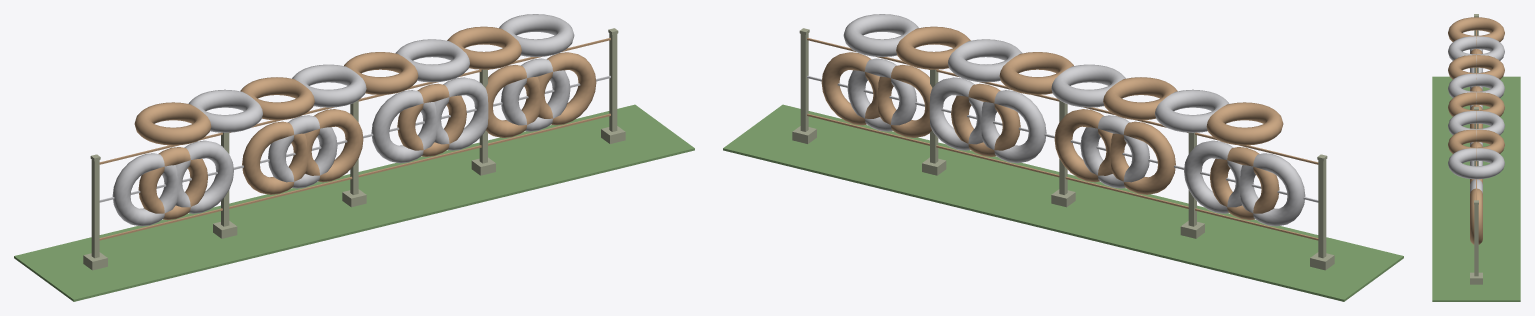
File: barbed_wire_fence.glb
3 views of the same model, side by side, from view 1: azimuth 30°, elevation 25°; view 2: azimuth 150°, elevation 25°; view 3: azimuth 270°, elevation 25° (orthographic). The views are drawn at different scales.
Visible parts, largest first — view 1: ground, barb_1a, barb_3a, barb_2a, concertina_1, barb_1b, barb_3b, barb_4b, barb_2b, barb_1c, barb_4c, barb_2c (+14 smaller); view 2: ground, barb_1a, barb_3a, barb_2a, concertina_1, barb_1b, barb_3b, barb_4b, barb_2b, barb_1c, barb_4c, barb_2c (+14 smaller); view 3: ground, concertina_8, concertina_1, concertina_2, concertina_7, concertina_4, concertina_5, concertina_3, concertina_6, barb_4c, post_5, foot_5 (+3 smaller).
Part boxes in pixels (x1,y1,x2,y2): ground: (14, 104, 694, 301); barb_1a: (112, 153, 177, 226); barb_3a: (371, 90, 436, 163); barb_2a: (242, 121, 307, 194); concertina_1: (134, 102, 211, 145); barb_1b: (138, 147, 207, 220); barb_3b: (397, 83, 466, 156); barb_4b: (501, 58, 570, 131); barb_2b: (268, 115, 337, 188); barb_1c: (175, 140, 233, 213); barb_4c: (538, 52, 596, 125); barb_2c: (305, 109, 363, 182); ground: (723, 104, 1403, 301); barb_1a: (1240, 153, 1305, 226); barb_3a: (981, 90, 1046, 163); barb_2a: (1110, 121, 1175, 194); concertina_1: (1206, 102, 1283, 145); barb_1b: (1210, 147, 1279, 220); barb_3b: (951, 83, 1020, 156); barb_4b: (847, 58, 916, 131); barb_2b: (1080, 115, 1149, 188); barb_1c: (1184, 140, 1242, 213); barb_4c: (821, 52, 879, 125); barb_2c: (1054, 109, 1112, 182); ground: (1432, 76, 1520, 301); concertina_8: (1448, 148, 1504, 179); concertina_1: (1448, 17, 1504, 48); concertina_2: (1448, 36, 1504, 67); concertina_7: (1448, 129, 1504, 160); concertina_4: (1448, 73, 1504, 104); concertina_5: (1448, 92, 1504, 123); concertina_3: (1448, 55, 1504, 85); concertina_6: (1448, 111, 1504, 141); barb_4c: (1470, 188, 1482, 244); post_5: (1474, 204, 1478, 276); foot_5: (1470, 272, 1482, 284).
Size of the model in its own units: 12 by 2.45 by 2.
